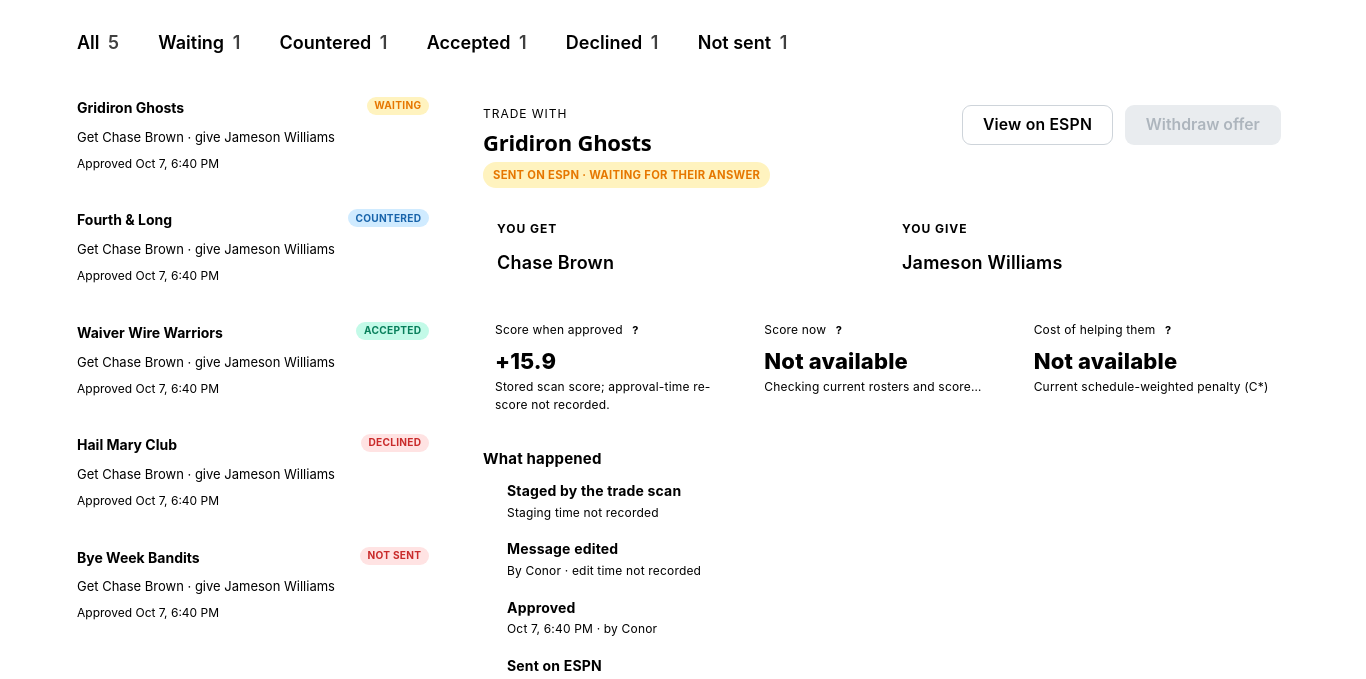
Scenario: scores only the open pending offer with current week, saved horizon and exact player sides
Expected: the button "Withdraw offer" is disabled, [1124,105,1281,146]
Step 1. Click the button "Accepted 1" → (477, 43), box [413,25,541,61]
(page scrolled)
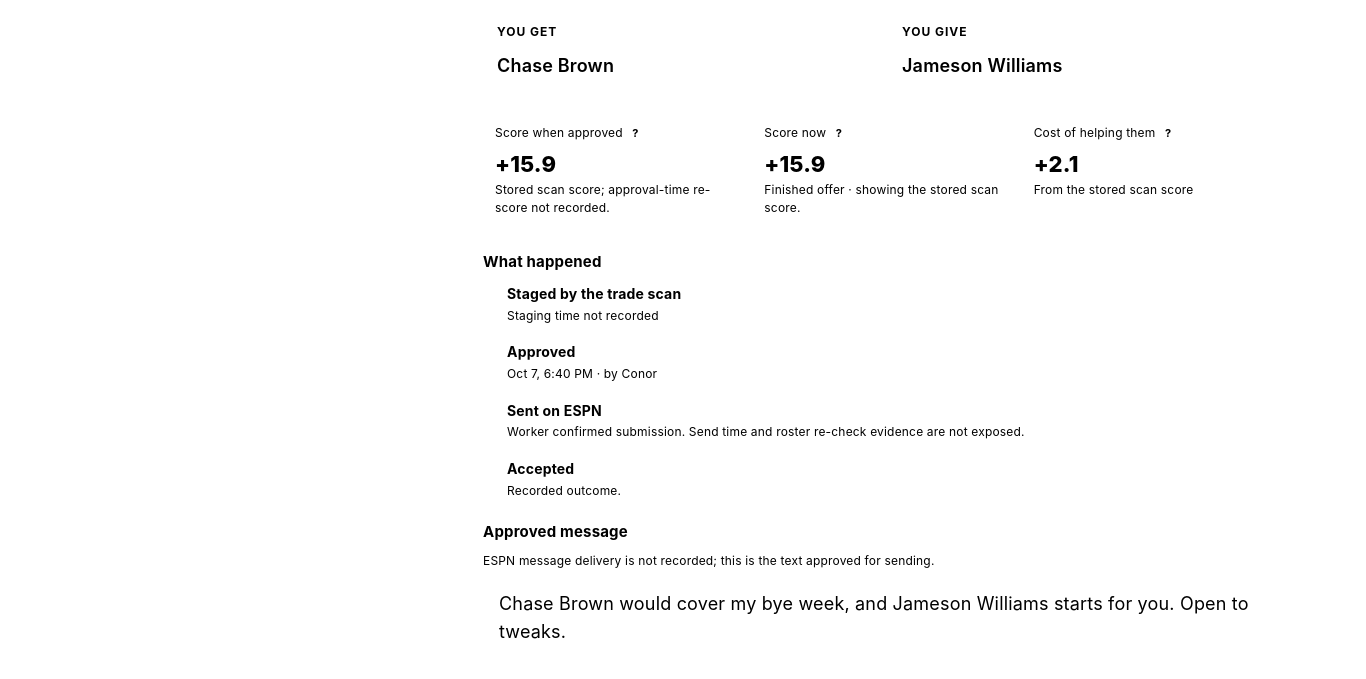
Result: the element named "Trade with Waiver Wire Warriors" shows "Finished offer" at [764,182,998,215]
Result: the button "Withdraw offer" is gone
